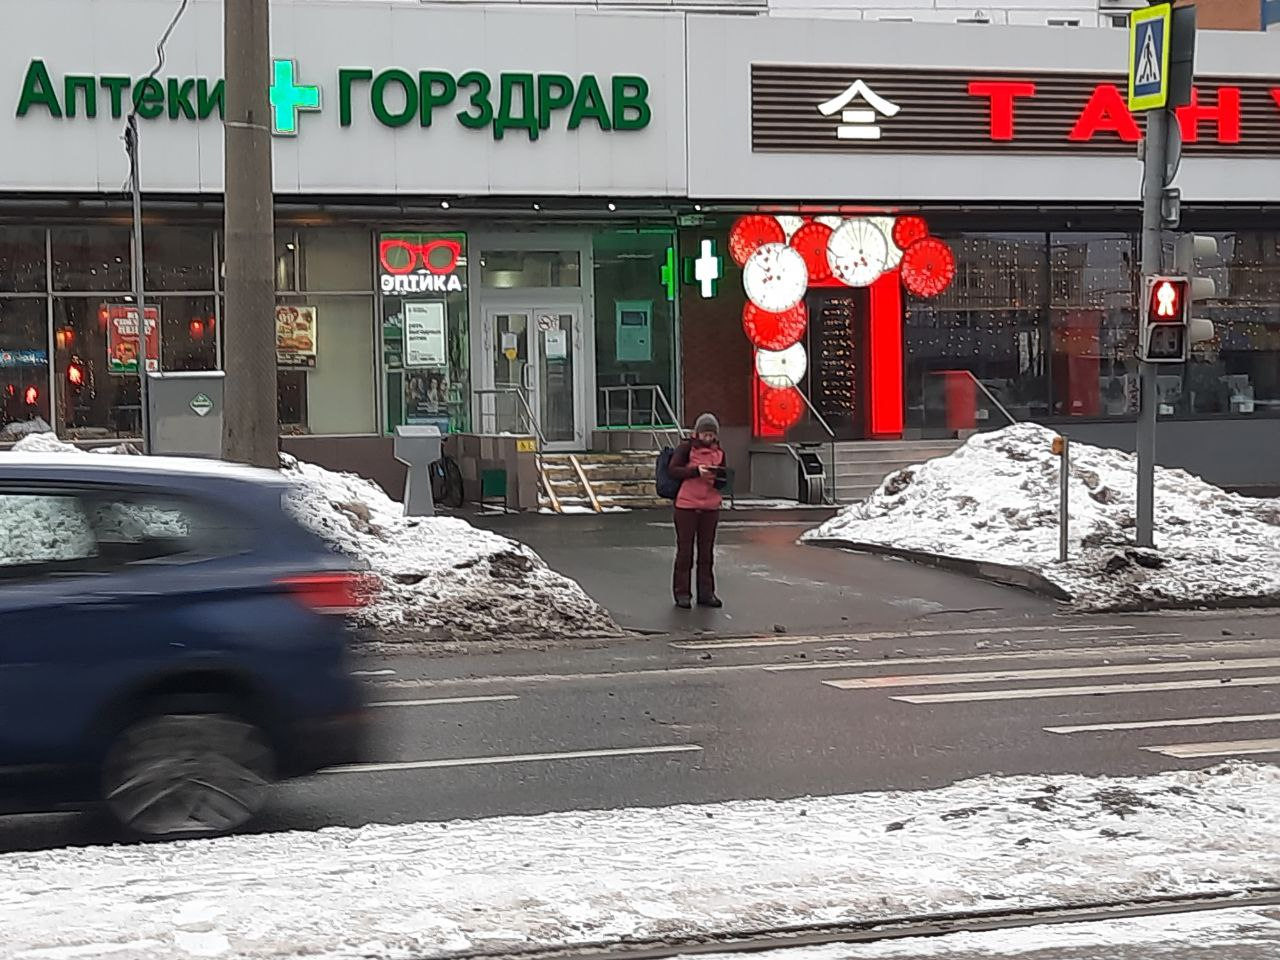sombie: (652, 401, 759, 621)
